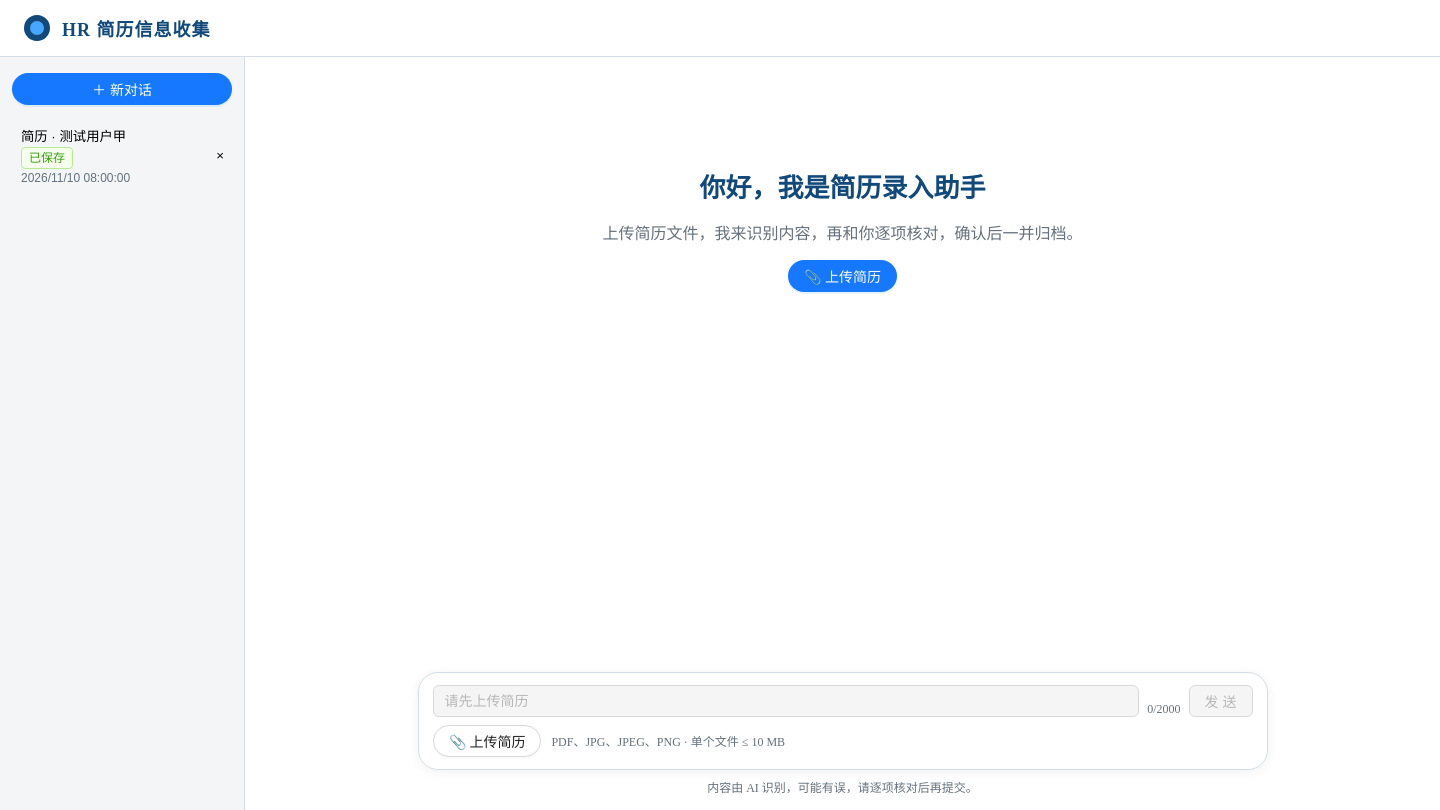
Test: update diff card (REQ-FE-09.2, red line: clears must be listed) › cancel closes the card and keeps the record unchanged
Click the button "简历 · 测试用户甲 已保存 2026/11/10 08:00:00": {"x": 108, "y": 156} [12,117,204,194]
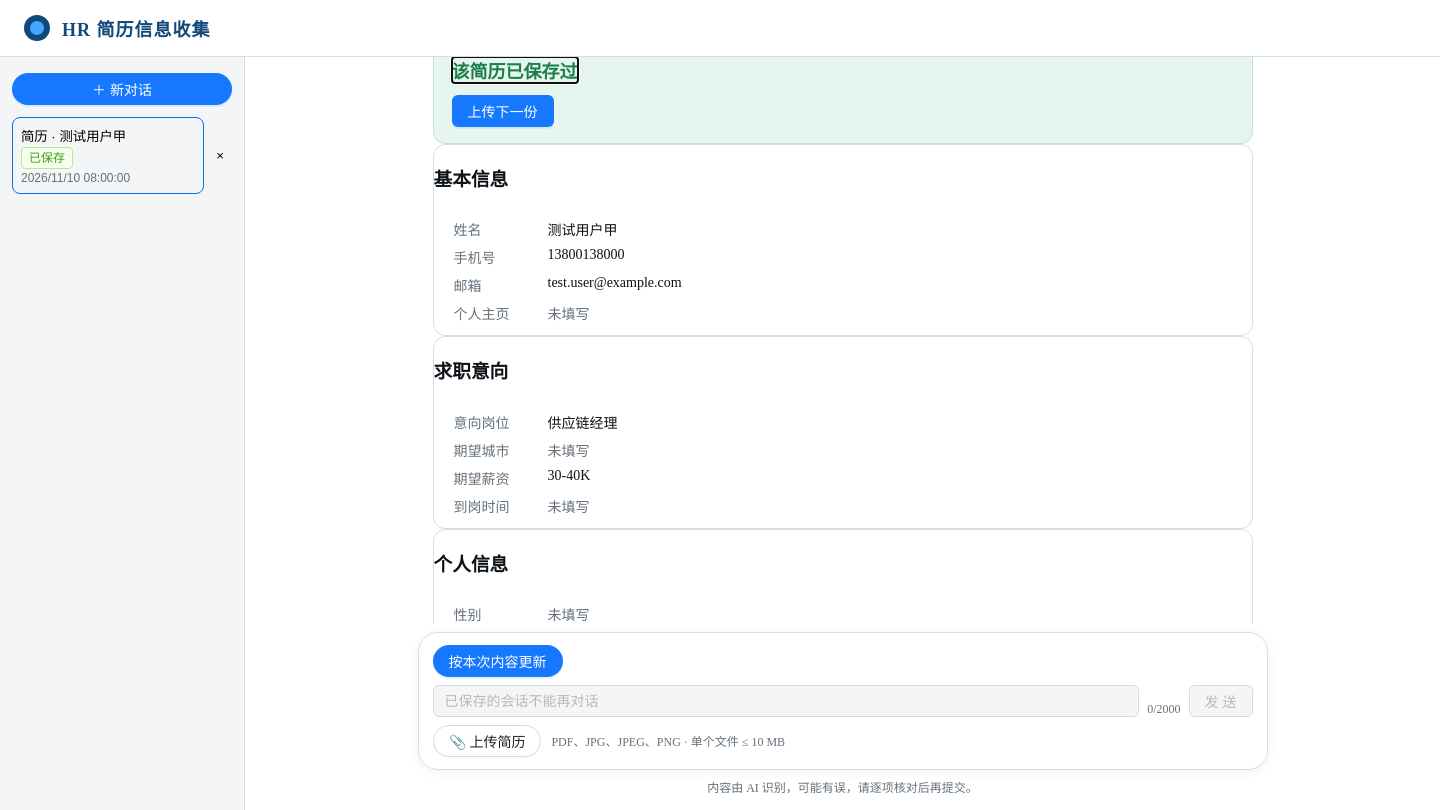
Expected: the text "该简历已保存过" is shown, [452,57,578,83]
Click the button "按本次内容更新": {"x": 498, "y": 661} [432,645,562,677]
(page scrolled)
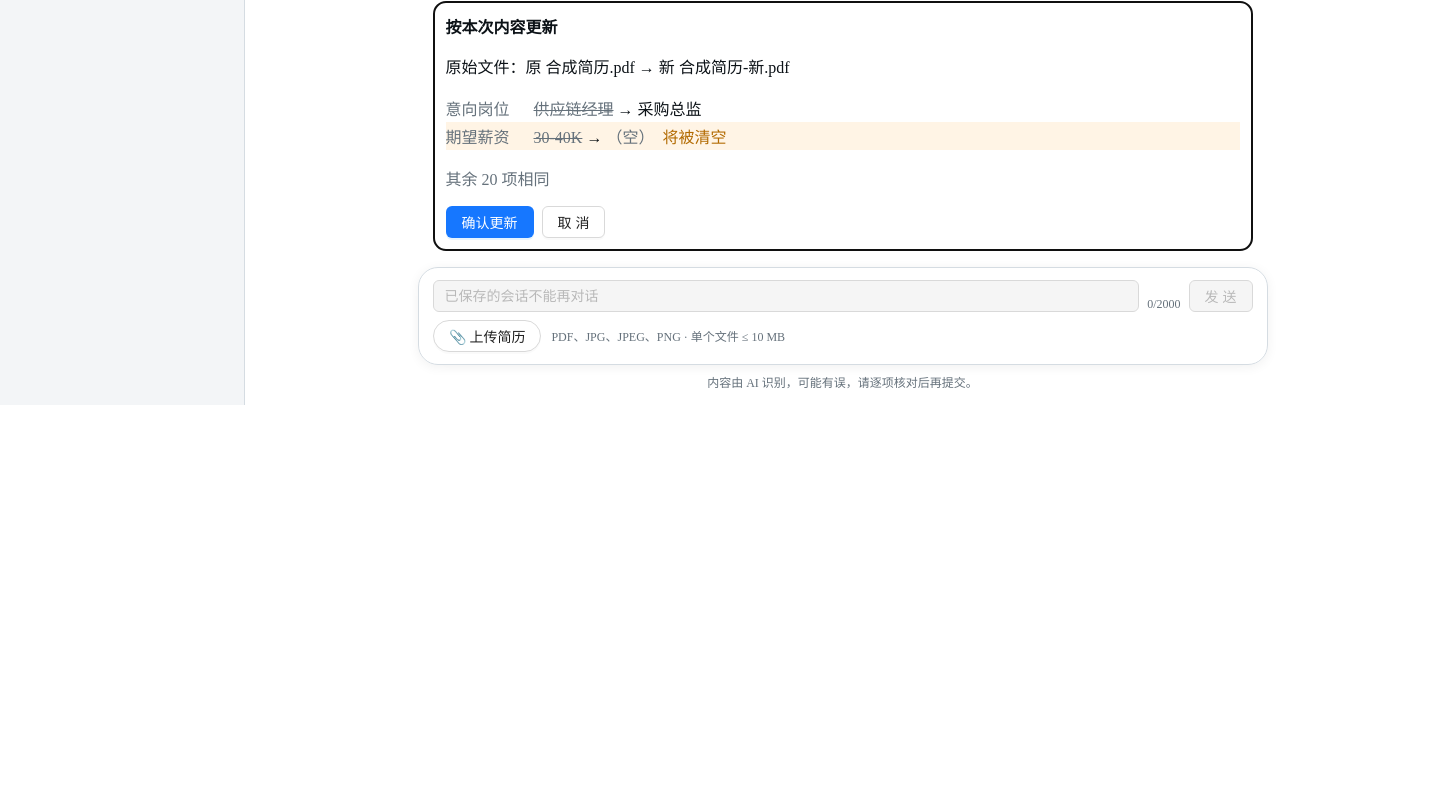
Click the button "取 消": {"x": 573, "y": 222} [542,206,605,238]
(page scrolled)
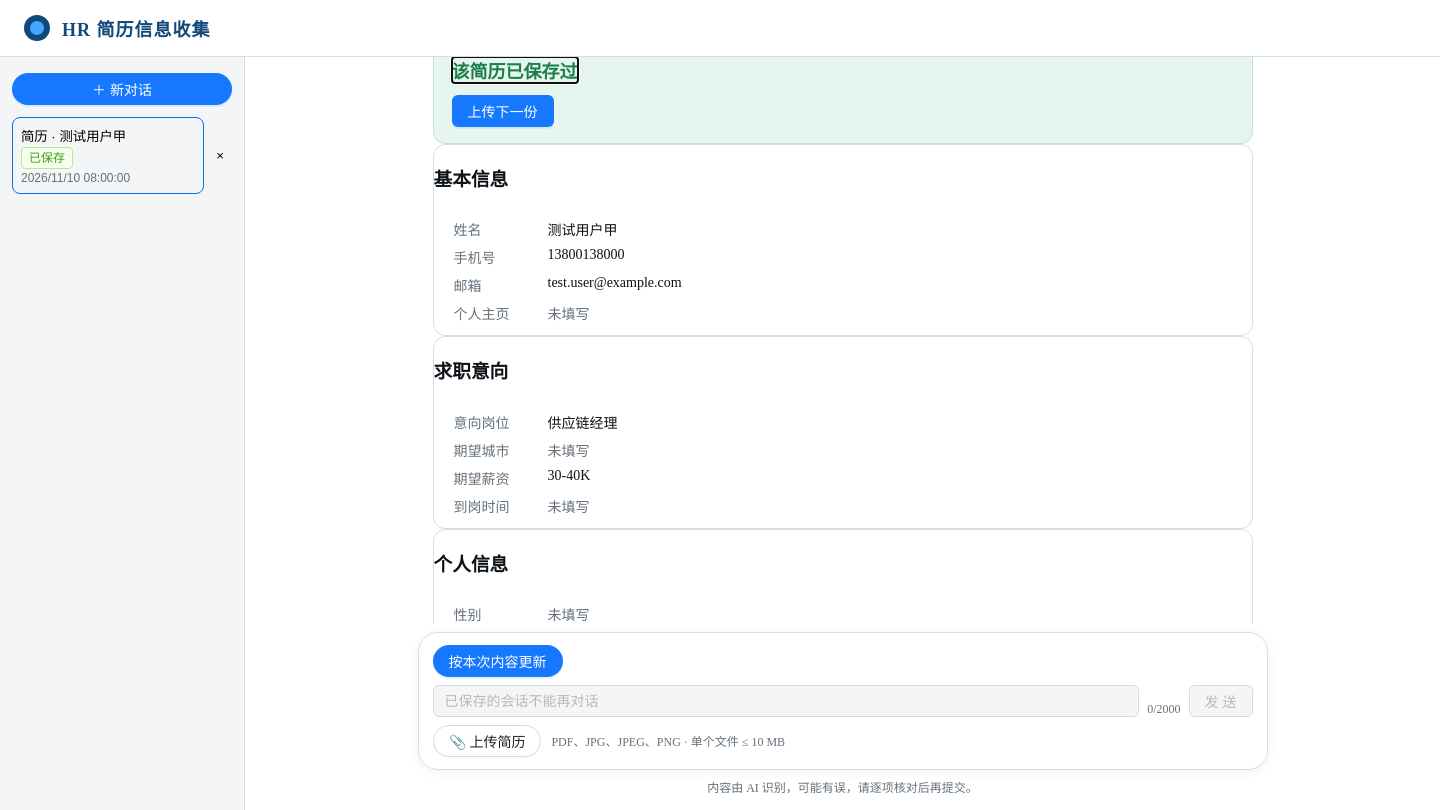
Expected: the field labelled "更新差异" is gone
